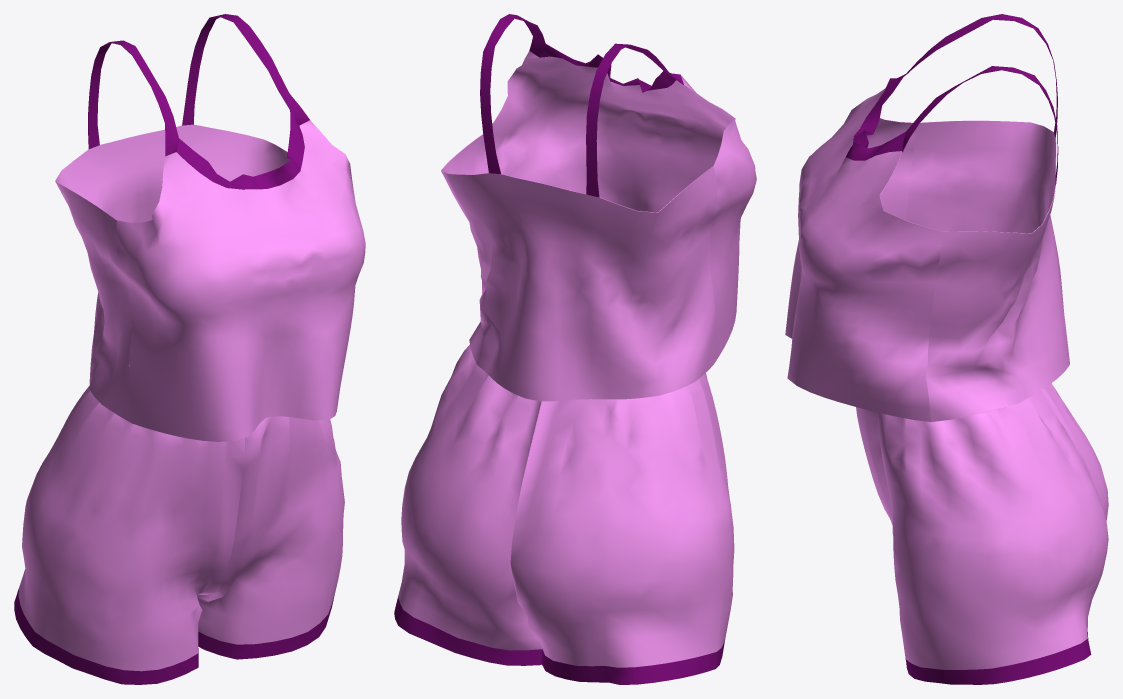
The model's file is babydoll2.obj.
3 renders of one model, left to right at view 1: azimuth 30°, elevation 25°; view 2: azimuth 150°, elevation 25°; view 3: azimuth 270°, elevation 25°, orthographic. The views are drawn at different scales.
Bounding box in the file's own units: 0.3955 × 0.779 × 0.3822.
